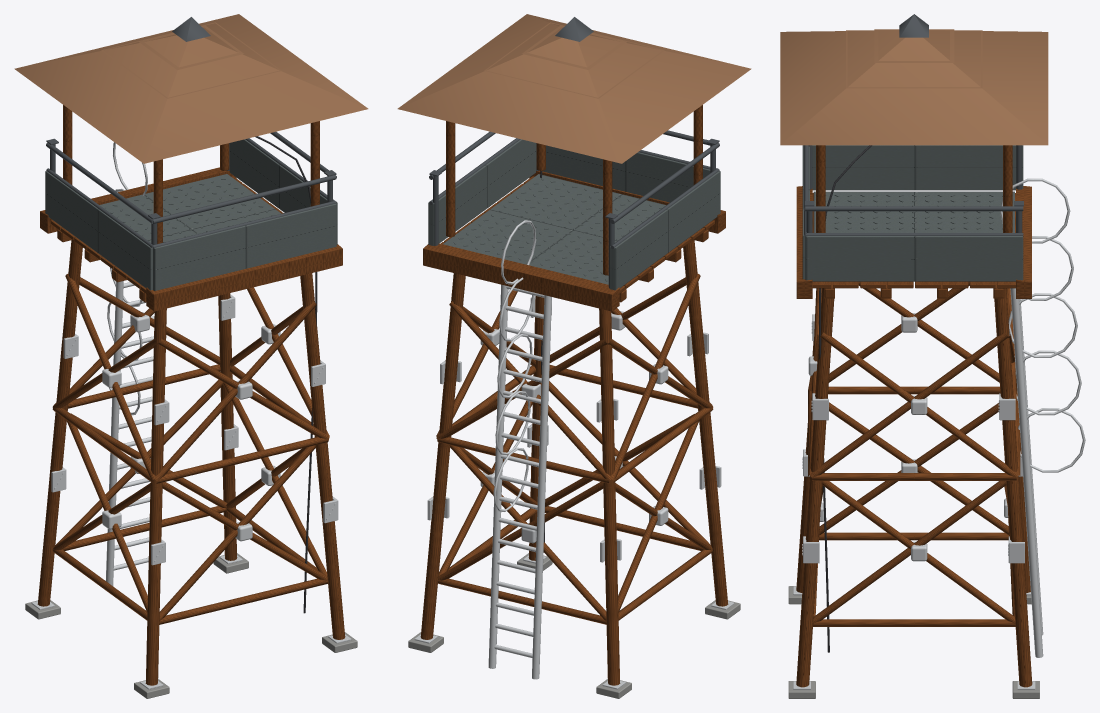
Rendered from tower.glb.
The picture shows the model from 3 angles, left to right: view 1: azimuth 30°, elevation 25°; view 2: azimuth 150°, elevation 25°; view 3: azimuth 270°, elevation 25°; orthographic projection. The views are drawn at different scales.
Visible parts, largest first — view 1: lookout-tower; view 2: lookout-tower; view 3: lookout-tower.
Part boxes in pixels (x1=…): lookout-tower: x1=14, y1=14, x2=368, y2=698; lookout-tower: x1=397, y1=14, x2=751, y2=698; lookout-tower: x1=780, y1=14, x2=1085, y2=698.
Size of the model in its own units: 3.32 by 8.65 by 3.79.
Materials: 8 (3 with a texture image).
